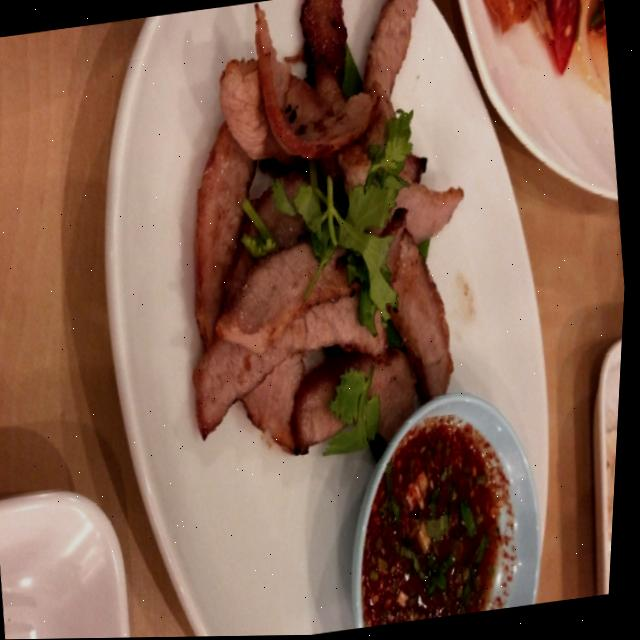猪肉菜式: (105, 41, 538, 430)
